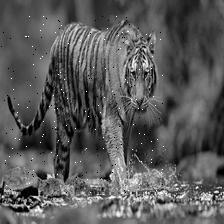tiger: (1, 16, 164, 194)
